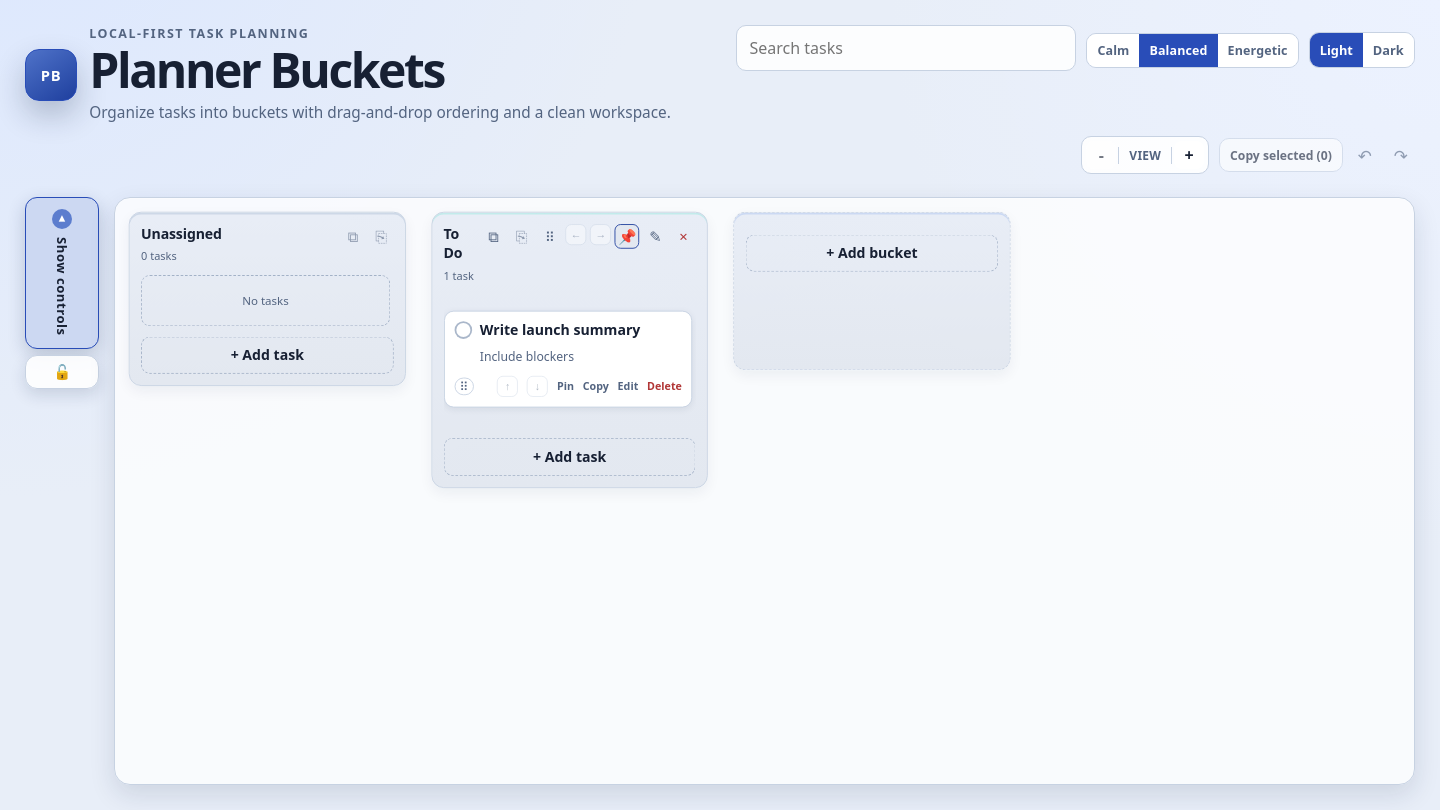
Scenario: App integration › shows ghost autocomplete suffix in quick bucket input while typing
This screenshot has width=1440, height=810.
Step 1. Click the button with aria-label "Open planner controls" → (62, 273), box left=25, top=197, right=99, bottom=349
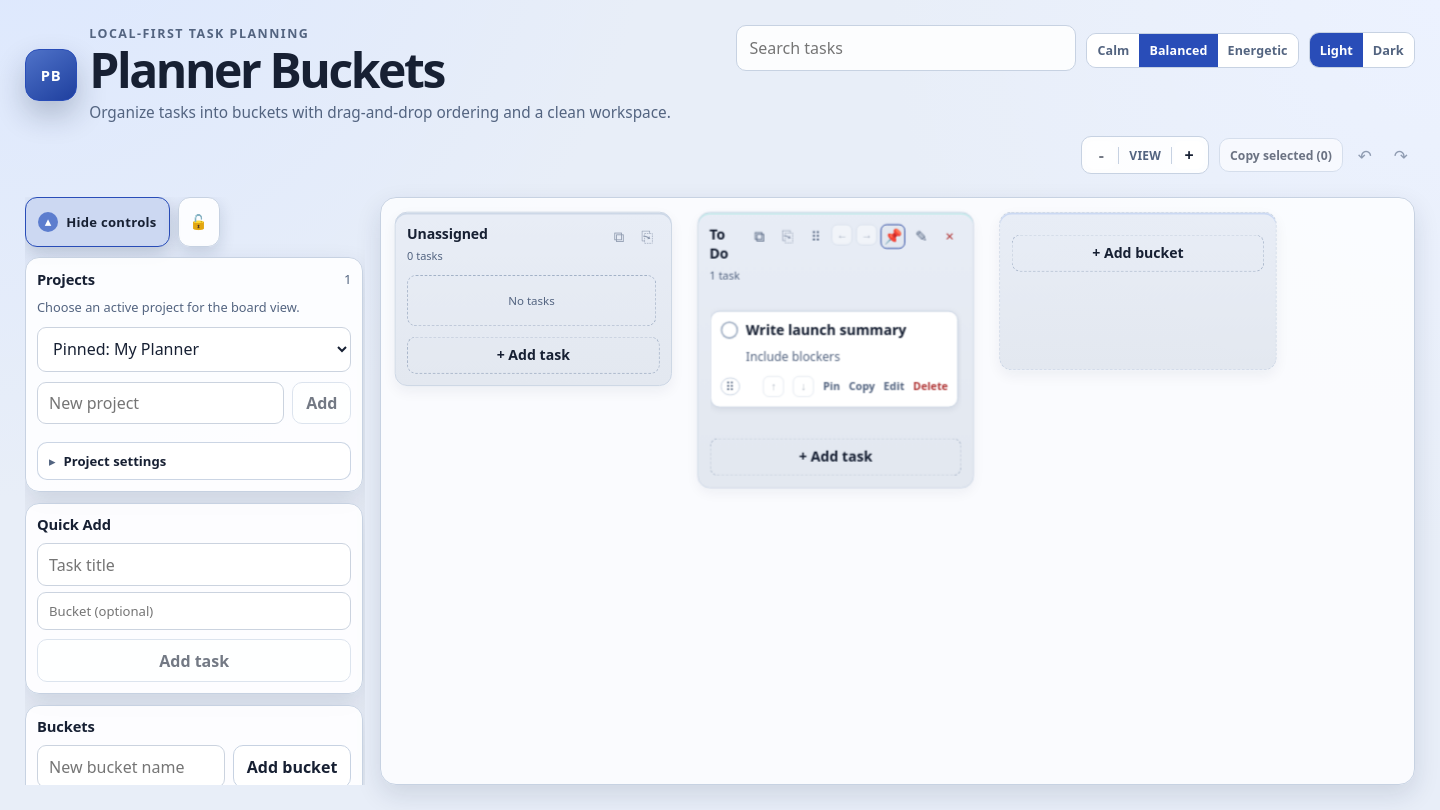
Step 2. Type "To" into the field named "Quick add bucket name" → (194, 611), box left=37, top=592, right=351, bottom=630
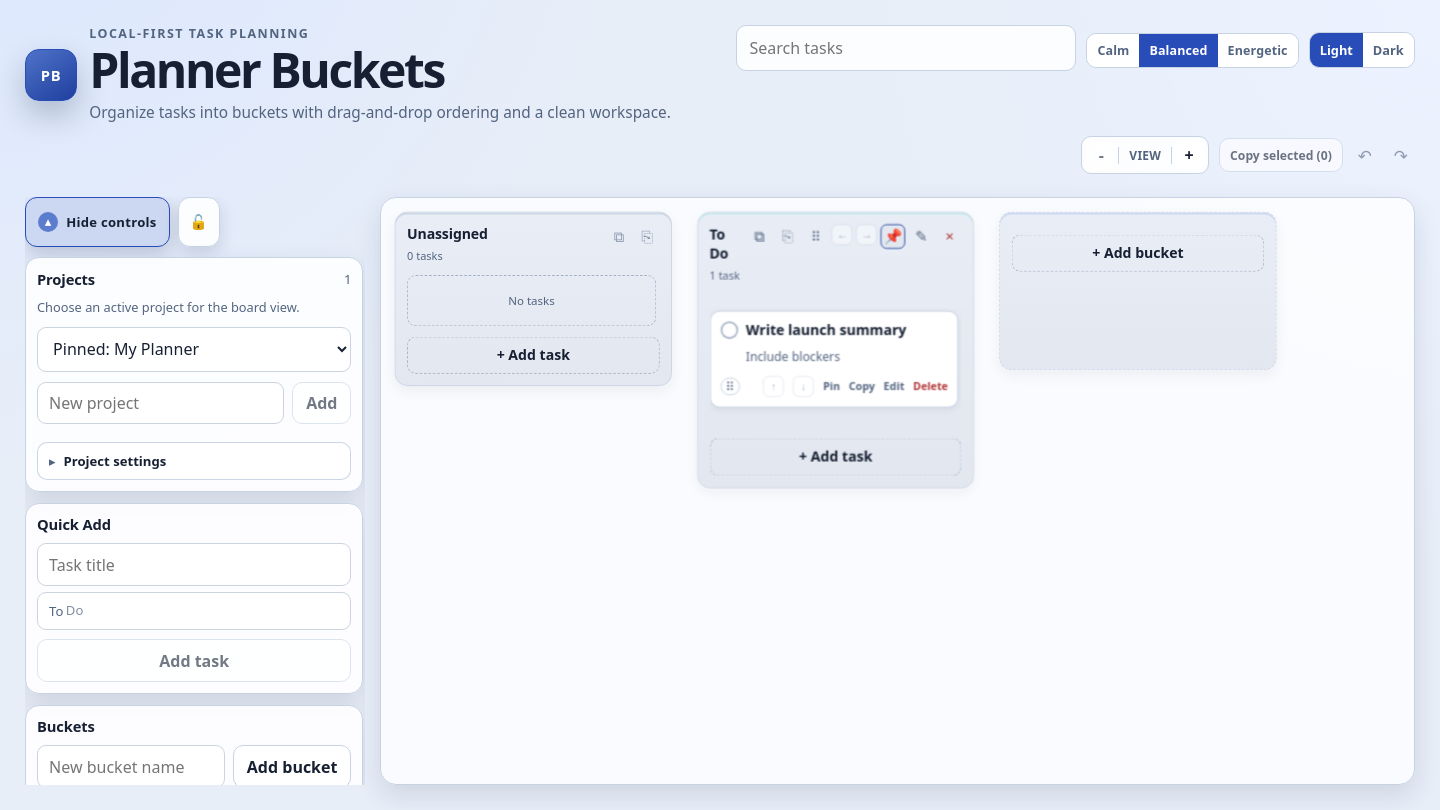
Check: the text "Do" is shown, box left=62, top=601, right=83, bottom=619
